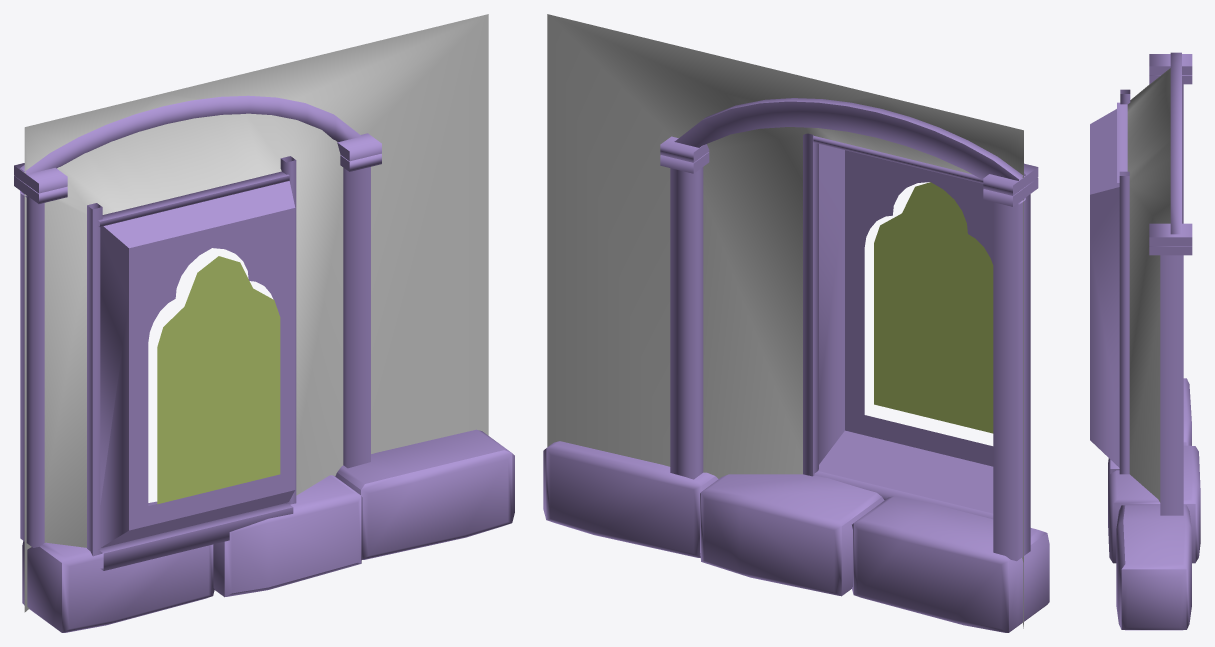
Rendered from window_b_inside_variant_c.fbx.
3 views of the same model, side by side, from view 1: azimuth 30°, elevation 25°; view 2: azimuth 150°, elevation 25°; view 3: azimuth 270°, elevation 25° (orthographic). The views are drawn at different scales.
Parts seen in each view (by area): view 1: Cube.024; view 2: Cube.024; view 3: Cube.024.
Part boxes in pixels (x1=…): Cube.024: x1=14, y1=14, x2=514, y2=632; Cube.024: x1=543, y1=14, x2=1049, y2=632; Cube.024: x1=1090, y1=52, x2=1200, y2=630.
Size of the model in its own units: 5 by 5.05 by 1.31.
